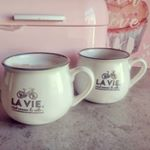cups: (1, 51, 97, 127), (75, 45, 149, 105)
